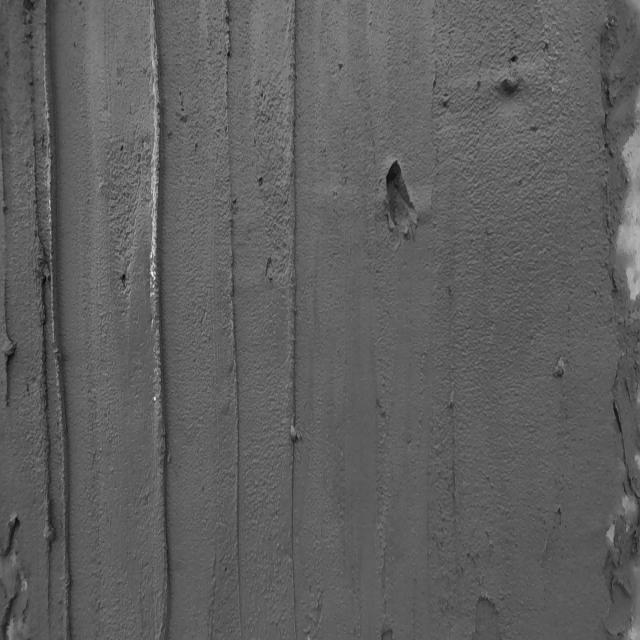trowels marks: (31, 0, 72, 631), (218, 11, 246, 640), (148, 7, 175, 640), (285, 7, 301, 640), (0, 113, 13, 409), (446, 377, 460, 574)
